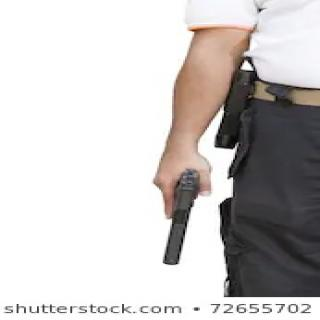gun: (148, 156, 215, 268)
